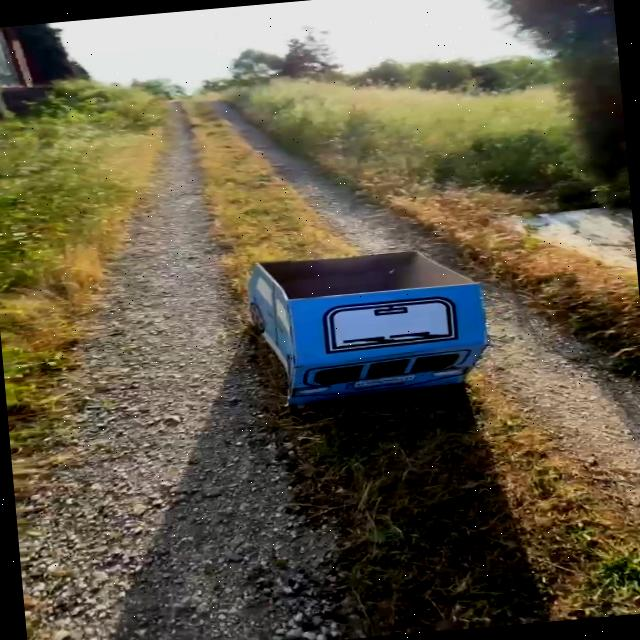blue_car: (167, 209, 535, 456)
